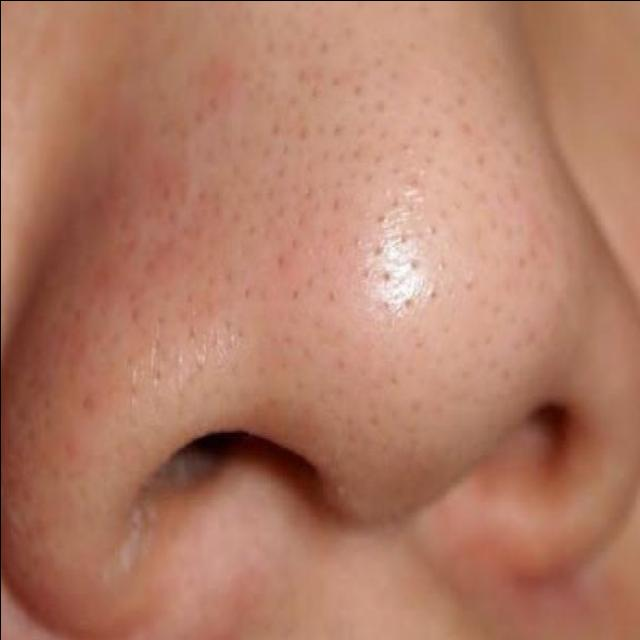blackhead: (64, 41, 530, 437)
